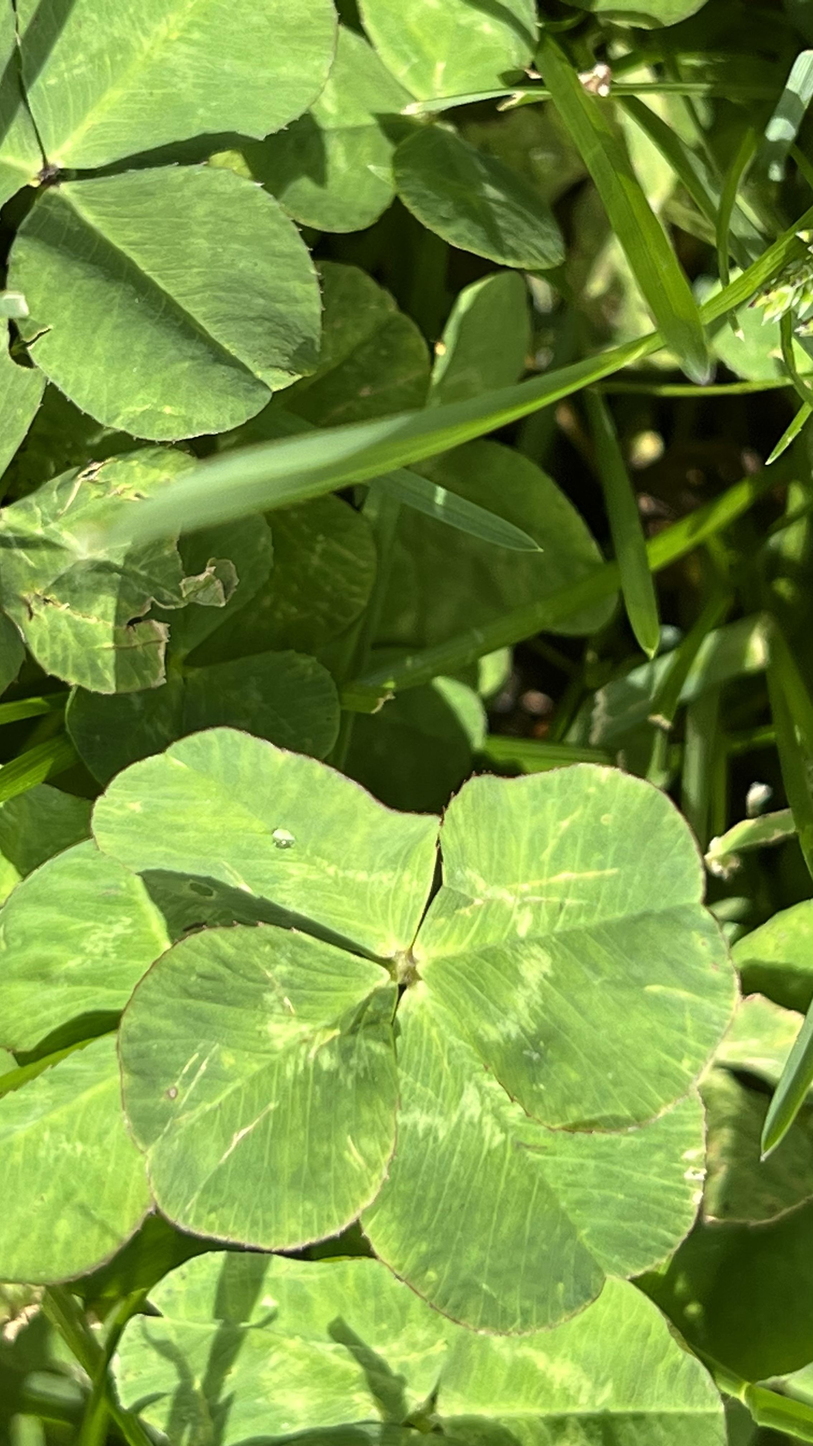4-Leaf-Clovers: (429, 132, 751, 1243)
